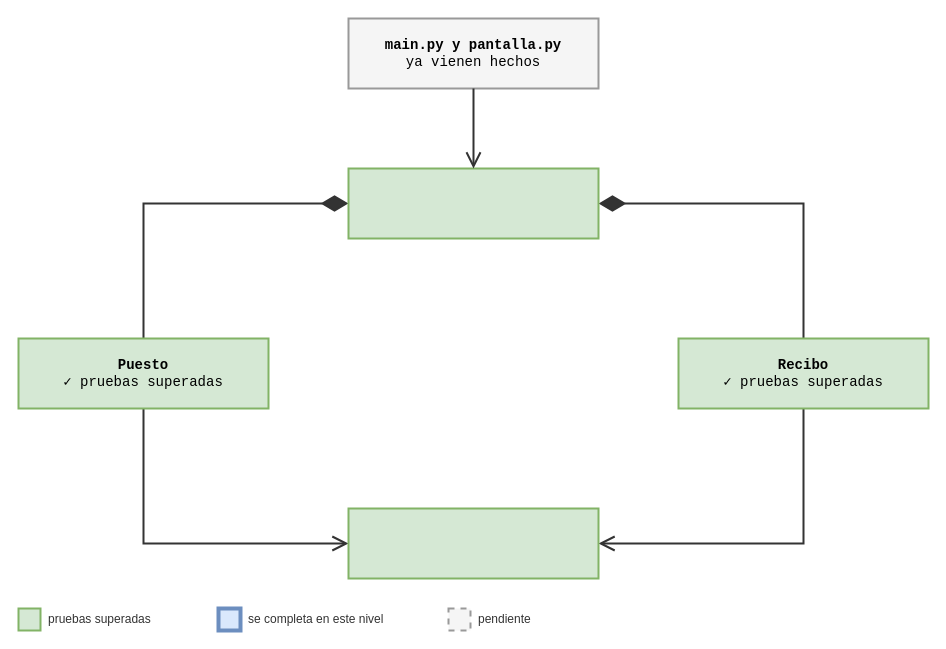
Image size: 946x649. Some labels were removed from this diagram. The shapes that lost their labels are listed below. From the top down, each one's centre as x and y in pixels, then its label:
At (x=473, y=203): "Parqueadero ✓ pruebas superadas".
At (x=473, y=543): "Vehiculo ✓ pruebas superadas".
